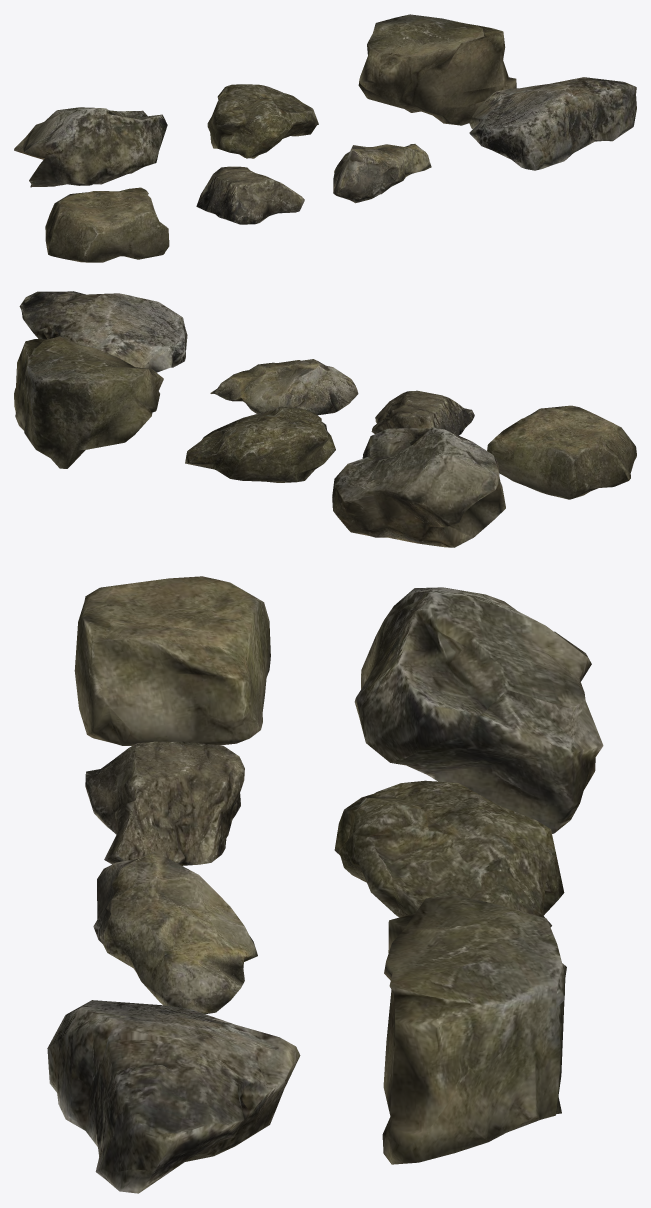
File: rock_moss_set_02.glb
The picture shows the model from 3 angles, top to bottom: view 1: azimuth 30°, elevation 25°; view 2: azimuth 150°, elevation 25°; view 3: azimuth 270°, elevation 25°; orthographic projection. The views are drawn at different scales.
Parts seen in each view (by area): view 1: rock_moss_set_02_rock13, rock_moss_set_02_rock10, rock_moss_set_02_rock11, rock_moss_set_02_rock07, rock_moss_set_02_rock12, rock_moss_set_02_rock08, rock_moss_set_02_rock09; view 2: rock_moss_set_02_rock11, rock_moss_set_02_rock13, rock_moss_set_02_rock07, rock_moss_set_02_rock10, rock_moss_set_02_rock12, rock_moss_set_02_rock09, rock_moss_set_02_rock08; view 3: rock_moss_set_02_rock11, rock_moss_set_02_rock13, rock_moss_set_02_rock10, rock_moss_set_02_rock07, rock_moss_set_02_rock12, rock_moss_set_02_rock09, rock_moss_set_02_rock08.
Part boxes in pixels (x1,y1,x2,y2): rock_moss_set_02_rock13: [358, 14, 516, 125]; rock_moss_set_02_rock10: [469, 77, 636, 170]; rock_moss_set_02_rock11: [14, 107, 167, 187]; rock_moss_set_02_rock07: [45, 187, 169, 262]; rock_moss_set_02_rock12: [207, 84, 318, 158]; rock_moss_set_02_rock08: [196, 166, 304, 224]; rock_moss_set_02_rock09: [333, 144, 431, 203]; rock_moss_set_02_rock11: [332, 427, 505, 547]; rock_moss_set_02_rock13: [14, 336, 163, 468]; rock_moss_set_02_rock07: [487, 405, 636, 499]; rock_moss_set_02_rock10: [19, 291, 187, 372]; rock_moss_set_02_rock12: [185, 406, 335, 482]; rock_moss_set_02_rock09: [210, 359, 358, 415]; rock_moss_set_02_rock08: [371, 390, 474, 435]; rock_moss_set_02_rock11: [354, 587, 603, 833]; rock_moss_set_02_rock13: [382, 895, 566, 1164]; rock_moss_set_02_rock10: [47, 1000, 300, 1193]; rock_moss_set_02_rock07: [74, 576, 270, 745]; rock_moss_set_02_rock12: [334, 780, 564, 927]; rock_moss_set_02_rock09: [93, 851, 257, 1013]; rock_moss_set_02_rock08: [85, 741, 244, 865].
Size of the model in its own units: 8.27 by 1.36 by 3.41.
1 material, 1 textured.
